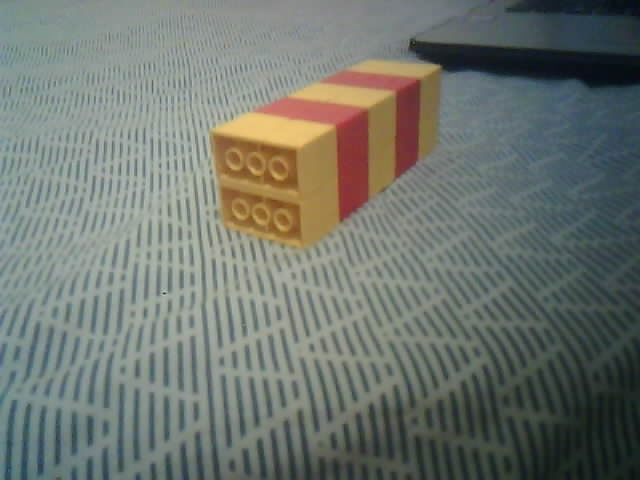lego: (209, 58, 443, 250)
